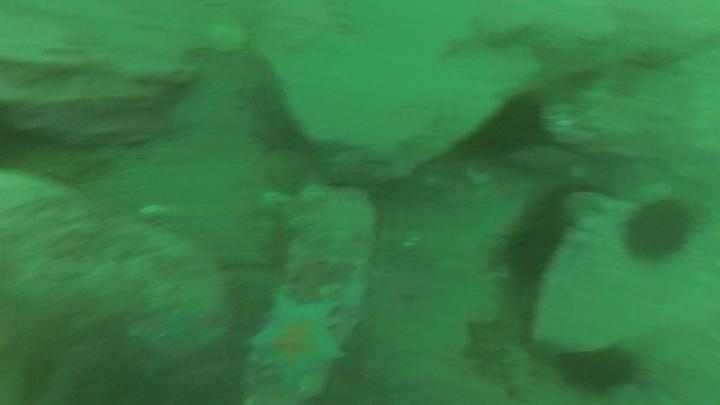echinus: (628, 200, 691, 258), (563, 350, 637, 394), (504, 228, 551, 281), (493, 103, 544, 147)
holothurian: (503, 345, 535, 392)
starfish: (248, 295, 344, 384), (464, 319, 517, 367)
